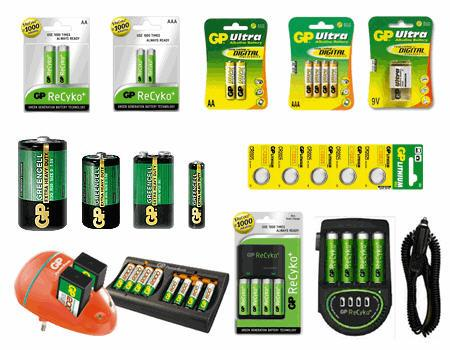Battery: (16, 135, 69, 232), (132, 149, 175, 230), (81, 151, 121, 230), (186, 159, 207, 231), (387, 58, 412, 103), (339, 230, 356, 285), (370, 232, 387, 285), (355, 230, 370, 284), (325, 230, 339, 285), (43, 44, 56, 87), (56, 44, 69, 85), (235, 59, 248, 100), (224, 59, 235, 101), (146, 46, 156, 85), (135, 46, 145, 84)
